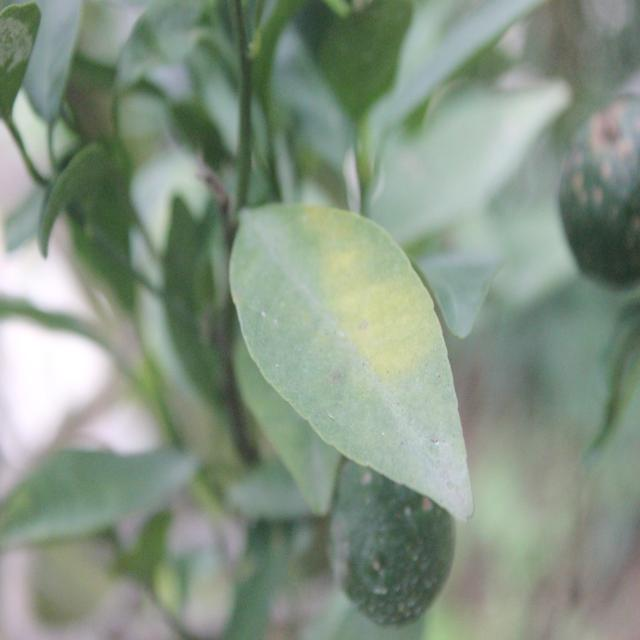blackspot: (249, 218, 473, 502)
